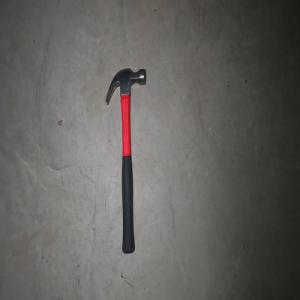Hammer: (104, 67, 146, 254)
